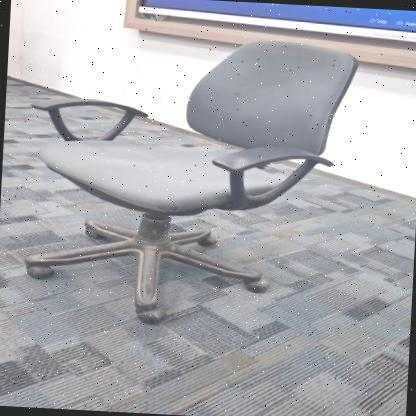chair: (8, 19, 366, 334)
